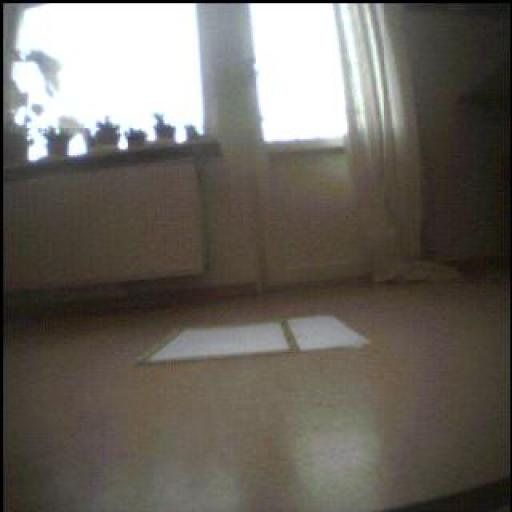Pad: (139, 324, 382, 354)
